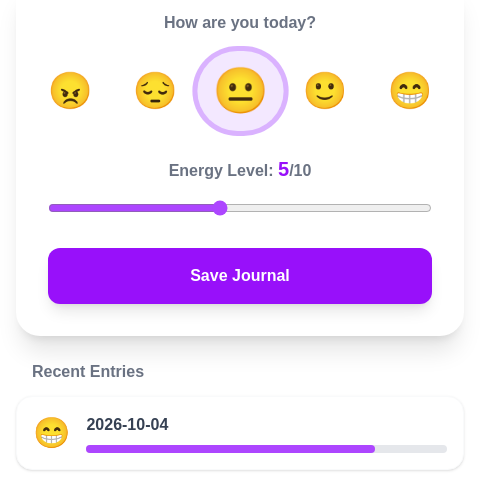
it: Zen Mood Micro-App › Mood Component › should allow changing energy slider
This screenshot has width=481, height=488.
Set the slider to "9": (383, 208) [48, 200, 432, 216]
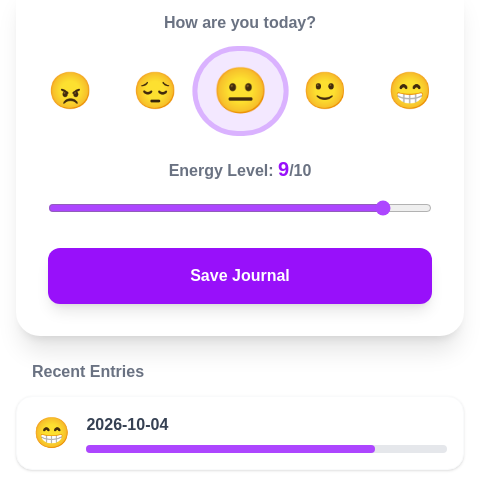
Expected: the text "9" is shown, [278, 158, 289, 180]
